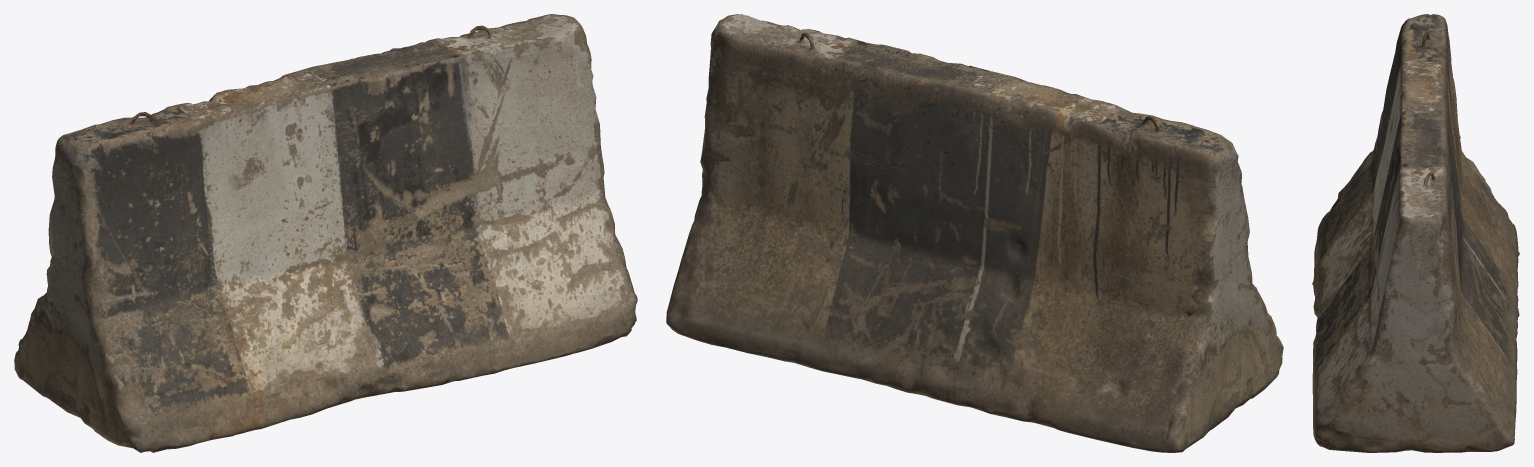
Rendered from barrier-optimized.gltf.
3 views of the same model, side by side, from view 1: azimuth 30°, elevation 25°; view 2: azimuth 150°, elevation 25°; view 3: azimuth 270°, elevation 25° (orthographic). The views are drawn at different scales.
Visible parts, largest first — view 1: concrete_road_barrier; view 2: concrete_road_barrier; view 3: concrete_road_barrier.
Part boxes in pixels (box(x1,y1,x2,y2)): concrete_road_barrier: box(14, 14, 637, 452); concrete_road_barrier: box(666, 14, 1283, 452); concrete_road_barrier: box(1312, 14, 1519, 452).
Bounding box in the file's own units: 1.55 × 0.8306 × 0.6387.
Materials: 1 (1 with a texture image).
